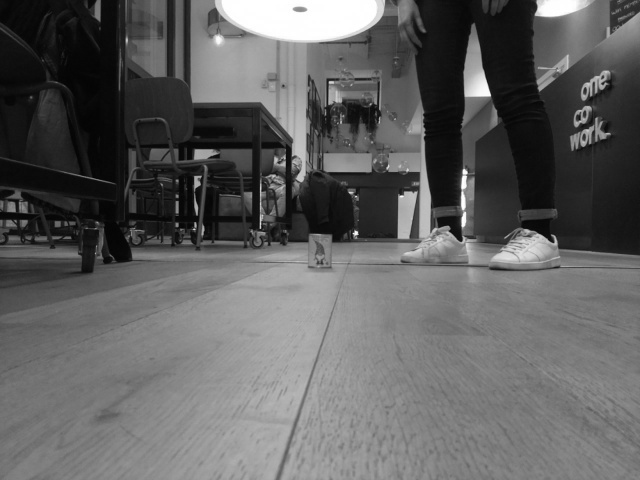gnome: (310, 239, 330, 267)
